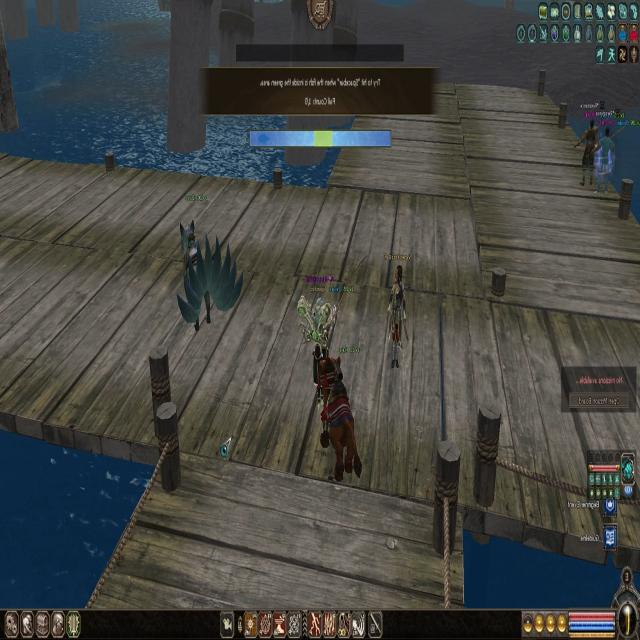box: (314, 129, 334, 148)
fishes: (258, 129, 272, 151)
